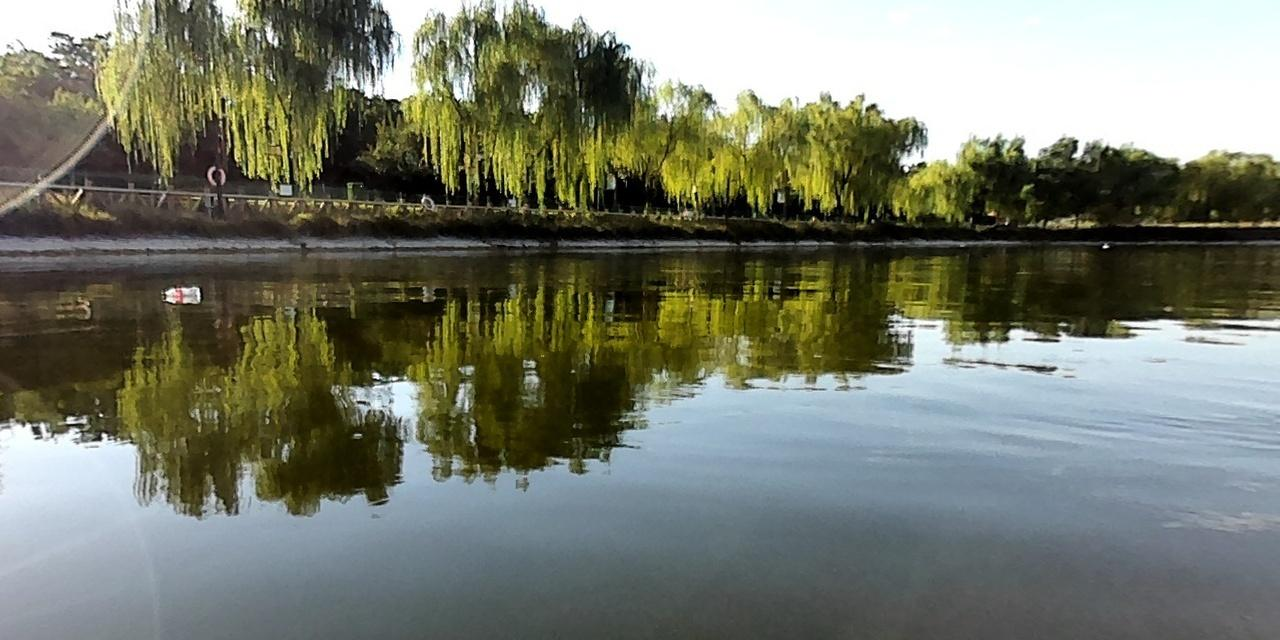bottle: (156, 281, 202, 300)
